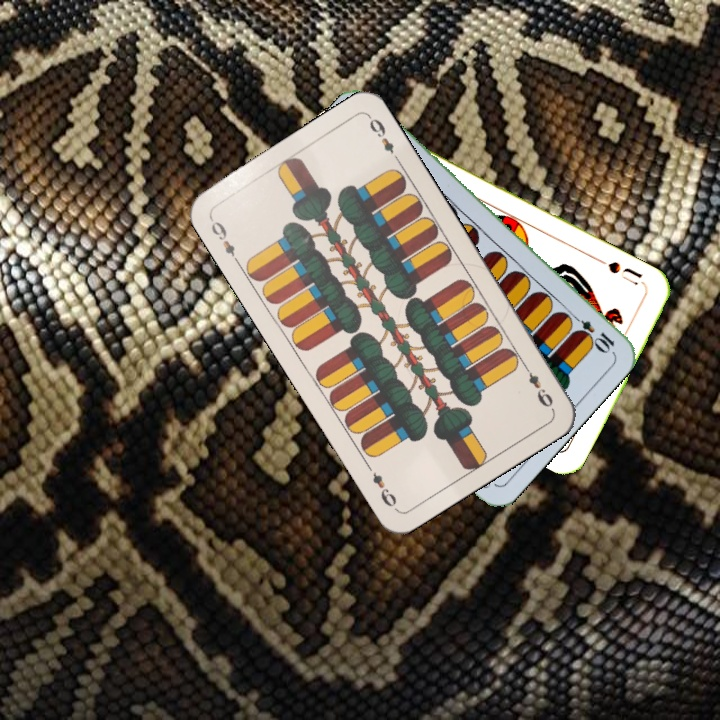E10: (565, 309, 617, 355)
E9: (518, 359, 556, 412), (206, 213, 242, 267)
SU: (595, 255, 649, 291)
